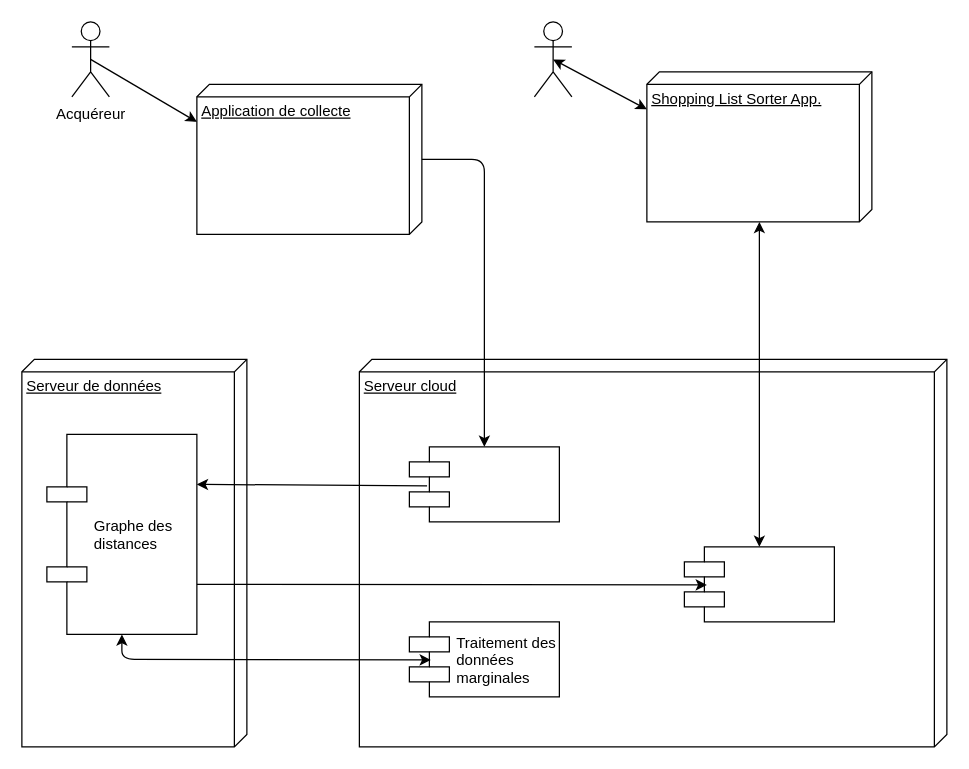
This 969x769 diagram has some shape labels left out. Each missing label, with the box of its shape:
Calculateur de chemin: (683, 546, 834, 622)
Interpréteur de données: (408, 446, 559, 522)
Utilisateur: (533, 21, 572, 97)
